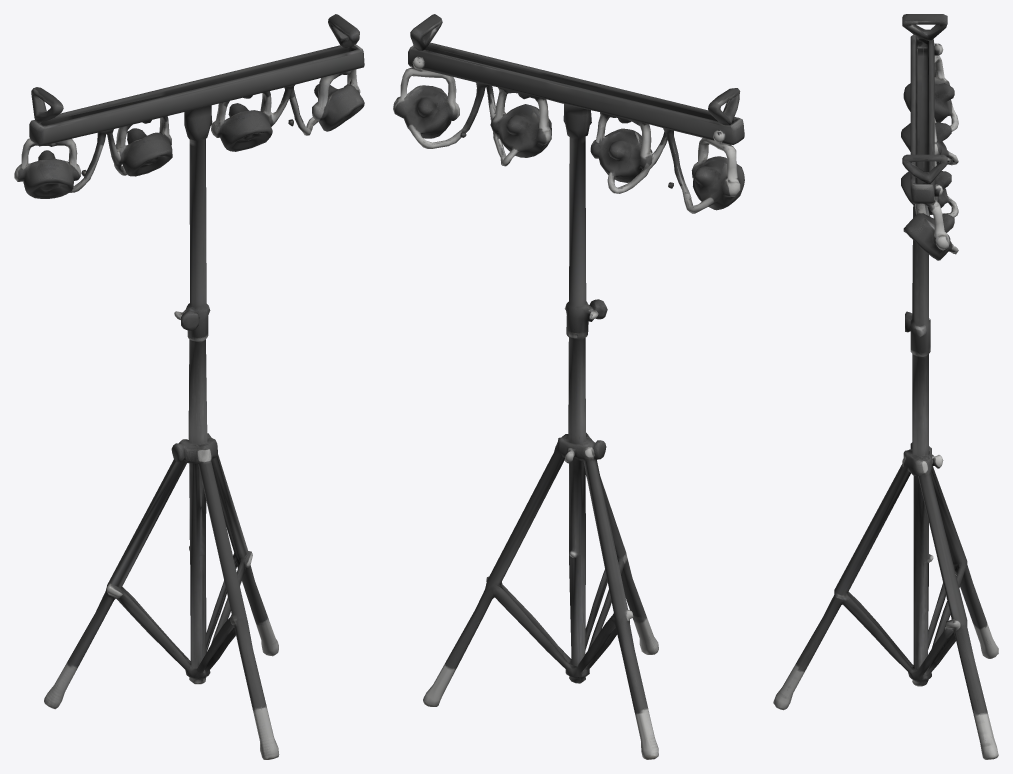
The model's file is Dj_Light_Bar_7FtTall_0218205619_texture.glb.
3 renders of one model, left to right at view 1: azimuth 30°, elevation 25°; view 2: azimuth 150°, elevation 25°; view 3: azimuth 270°, elevation 25°, orthographic. The views are drawn at different scales.
Visible parts, largest first — view 1: Mesh_0.001; view 2: Mesh_0.001; view 3: Mesh_0.001.
Part boxes in pixels (left/top/right/bottom): Mesh_0.001: left=14, top=14, right=364, bottom=759; Mesh_0.001: left=393, top=14, right=744, bottom=759; Mesh_0.001: left=773, top=14, right=998, bottom=759.
Bounding box in the file's own units: 1.19 × 2.13 × 0.6966.
Materials: 1 (1 with a texture image).
